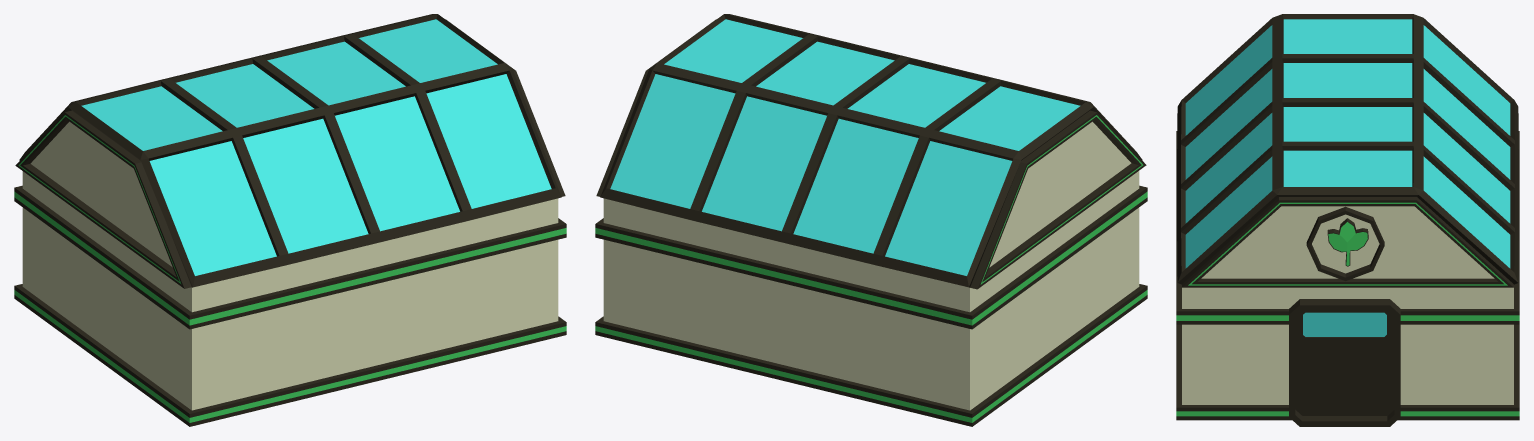
The model's file is Mesh_Build_Farm.fbx.
3 views of the same model, side by side, from view 1: azimuth 30°, elevation 25°; view 2: azimuth 150°, elevation 25°; view 3: azimuth 270°, elevation 25° (orthographic). The views are drawn at different scales.
Visible parts, largest first — view 1: Base, Roof; view 2: Base, Roof; view 3: Roof, Base, Door, Logo.
Part boxes in pixels (x1=…): Base: x1=14, y1=19, x2=566, y2=426; Roof: x1=19, y1=14, x2=561, y2=287; Base: x1=595, y1=19, x2=1147, y2=426; Roof: x1=600, y1=14, x2=1142, y2=287; Roof: x1=1177, y1=14, x2=1518, y2=284; Base: x1=1176, y1=131, x2=1519, y2=420; Door: x1=1289, y1=299, x2=1400, y2=426; Logo: x1=1306, y1=206, x2=1384, y2=281.
Bounding box in the file's own units: 537 × 306 × 414.
